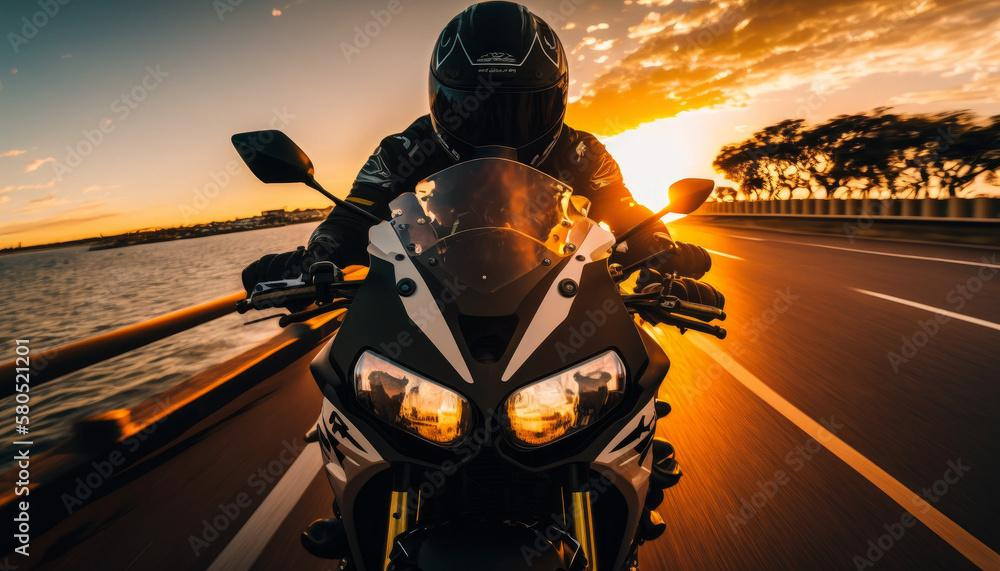helmet: (427, 0, 570, 191)
